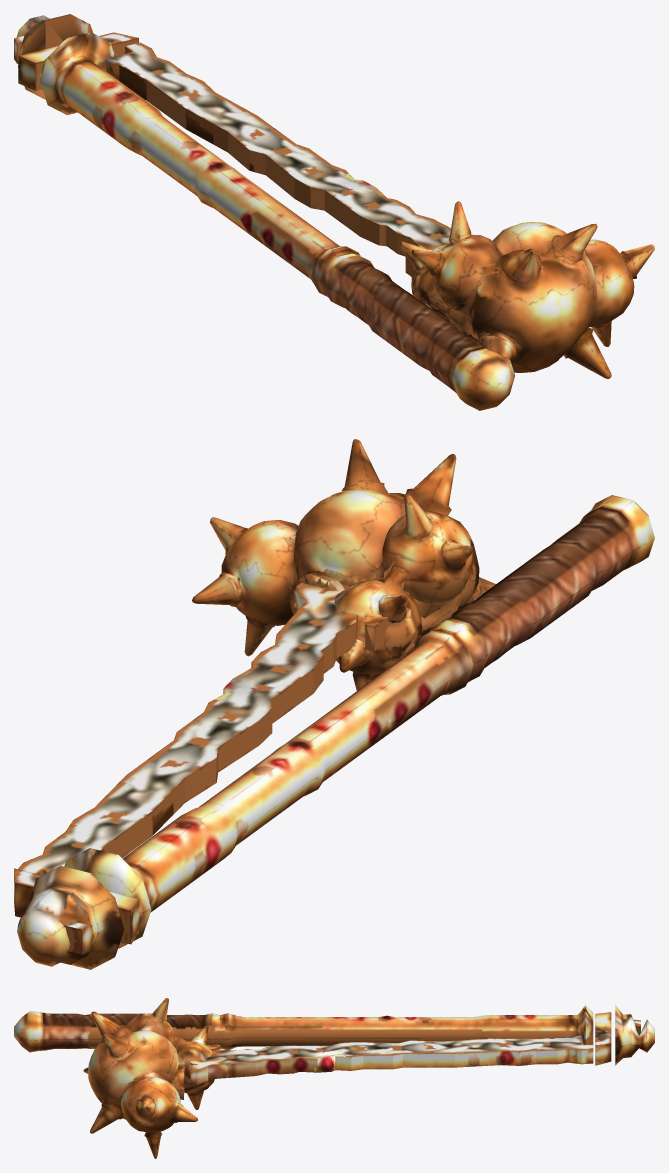
Rendered from item_mm9_10194.glb.
The picture shows the model from 3 angles, top to bottom: view 1: azimuth 30°, elevation 25°; view 2: azimuth 150°, elevation 25°; view 3: azimuth 270°, elevation 25°; orthographic projection. The views are drawn at different scales.
Parts seen in each view (by area): view 1: d10194; view 2: d10194; view 3: d10194.
Boxes of the visible parts, x1,y1,x2,y2 form: d10194: (14,14,654,410); d10194: (14,439,654,969); d10194: (14,998,654,1158).
Bounding box in the file's own units: 49.65 × 28.86 × 146.
Materials: 1 (1 with a texture image).
